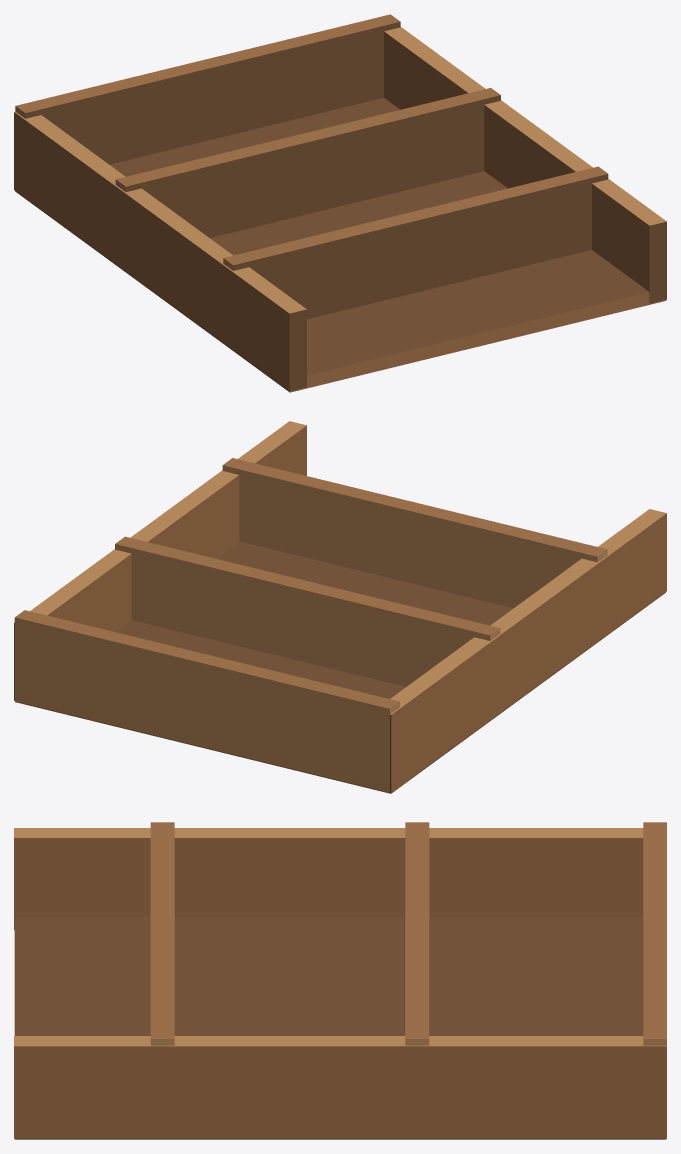
File: Bookshelf.fbx
3 renders of one model, top to bottom at view 1: azimuth 30°, elevation 25°; view 2: azimuth 150°, elevation 25°; view 3: azimuth 270°, elevation 25°, orthographic. The views are drawn at different scales.
Parts seen in each view (by area): view 1: BookShelf; view 2: BookShelf; view 3: BookShelf.
Part boxes in pixels (bbox=[...]): BookShelf: bbox=[14, 14, 666, 392]; BookShelf: bbox=[14, 421, 666, 793]; BookShelf: bbox=[14, 822, 666, 1139].
Bounding box in the file's own units: 152 × 32.71 × 192.
1 material, 1 textured.
